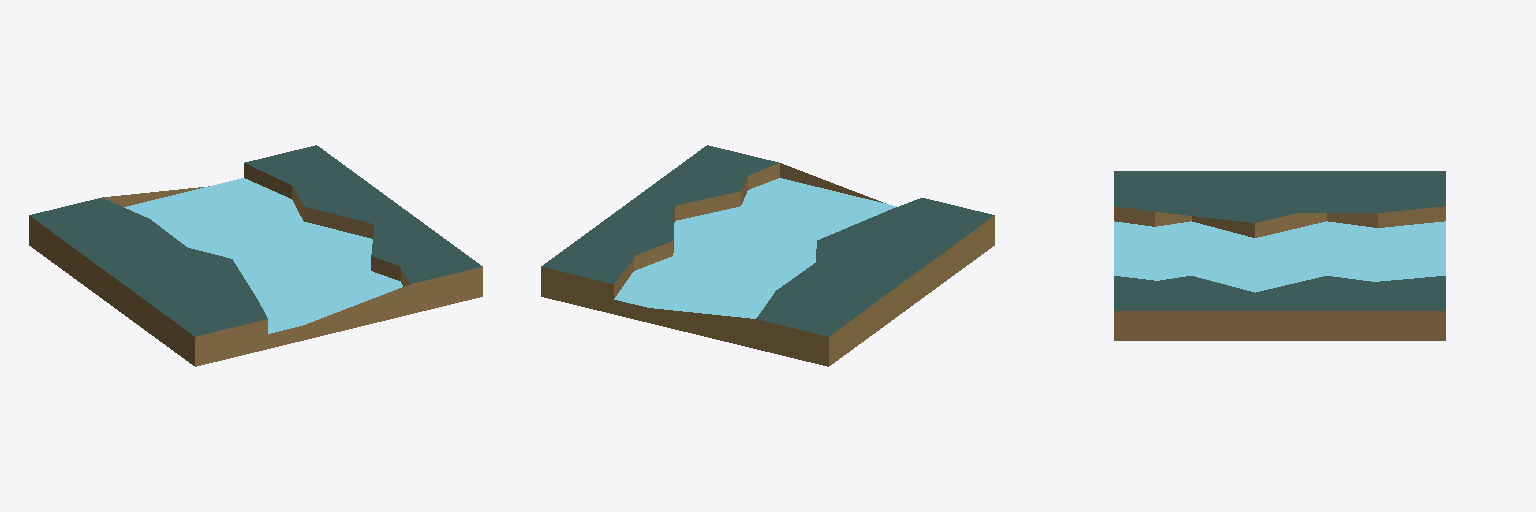
Rendered from Plate_River_Dirt_01.obj.
3 views of the same model, side by side, from view 1: azimuth 30°, elevation 25°; view 2: azimuth 150°, elevation 25°; view 3: azimuth 270°, elevation 25° (orthographic).
Visible parts, largest first — view 1: Mesh1_Plate_River_Dirt_Model; view 2: Mesh1_Plate_River_Dirt_Model; view 3: Mesh1_Plate_River_Dirt_Model.
Boxes of the visible parts, <box> form: Mesh1_Plate_River_Dirt_Model: <box>29,145,482,366</box>; Mesh1_Plate_River_Dirt_Model: <box>541,145,994,366</box>; Mesh1_Plate_River_Dirt_Model: <box>1114,171,1445,340</box>.
Bounding box in the file's own units: 3 × 0.3 × 3.